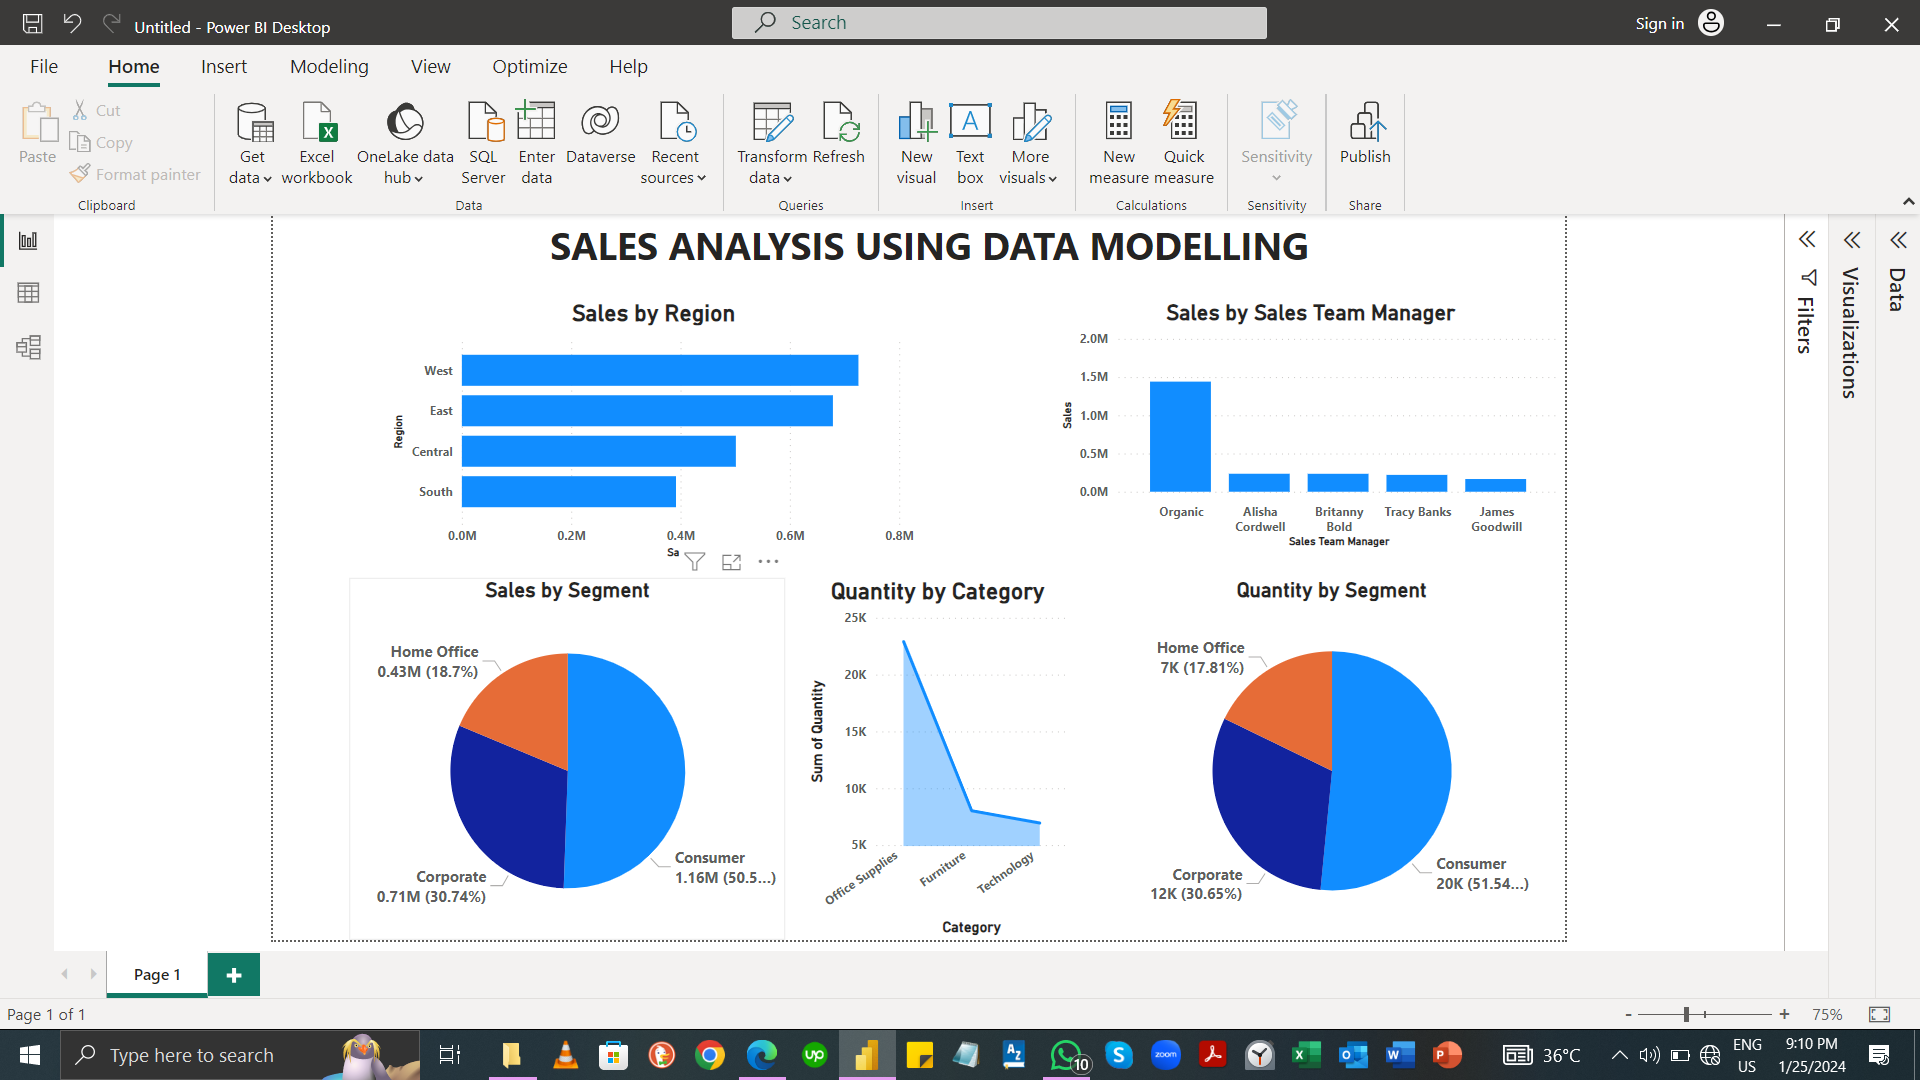

The dashboard page shown, as its layout file describes it:
{"tool":"powerbi","page":{"name":"Page 1","canvas":[1280,720],"ordinal":0},"visuals":[{"type":"clusteredBarChart","title":" Sales by Region","fields":{"Category":["Locations.Region"],"Y":["Sales.Sales"]},"box":[52.2,81.3,546.4,279.3],"z":0},{"type":"clusteredColumnChart","title":"Sales by Sales Team Manager","fields":{"Y":["Sales.Sales"],"Category":["Sales Reps.Sales Team Manager"]},"box":[658.4,81.3,572.5,279.3],"z":1000},{"type":"pieChart","title":"Sales by Segment","fields":{"Category":["Customers.Segment"],"Y":["Sales.Sales"]},"box":[52.2,360.7,426.7,359.1],"z":2000},{"type":"areaChart","title":"Quantity by Category","fields":{"Category":["Products.Category"],"Y":["Sales.Quantity"]},"box":[515.7,360.7,314.6,359.1],"z":3000},{"type":"pieChart","title":"Quantity by Segment","fields":{"Category":["Customers.Segment"],"Y":["Sales.Quantity"]},"box":[853.3,360.7,397.5,359.1],"z":4000},{"type":"textbox","box":[0,0,1280,61.4],"z":5000}]}

Visuals, with their boxes on the page's 1280x720 design canvas (x1, y1, x2, y2). These are canvas units, not pixel positions in the 1920x1080 screenshot, which may show the page scaled, cropped or inside an application window:
" Sales by Region" clusteredBarChart: bbox=[52, 81, 599, 361]
"Sales by Sales Team Manager" clusteredColumnChart: bbox=[658, 81, 1231, 361]
"Sales by Segment" pieChart: bbox=[52, 361, 479, 720]
"Quantity by Category" areaChart: bbox=[516, 361, 830, 720]
"Quantity by Segment" pieChart: bbox=[853, 361, 1251, 720]
textbox: bbox=[0, 0, 1280, 61]
